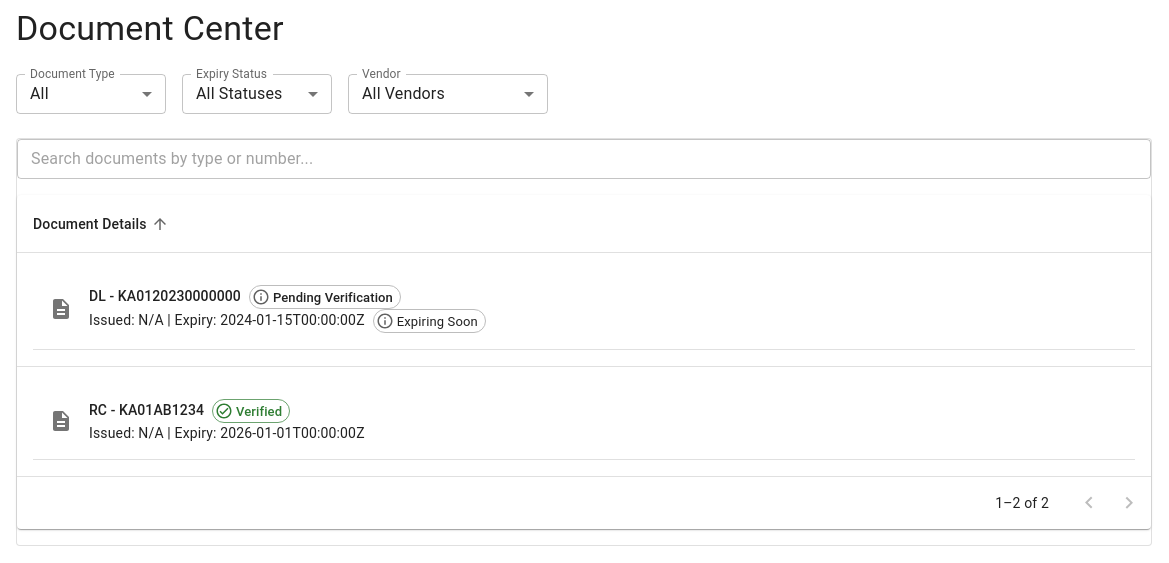
DocumentsPage › filters by "expiring" + "DL" reduces rows correctly
expect the heading "DL - KA0120230000000 Pending Verification" is shown: met, box [89, 285, 401, 309]
expect the heading "RC - KA01AB1234 Verified" is shown: met, box [89, 399, 290, 423]
Replace the text in the field named "type" with "DL" at (91,94), box [16, 74, 166, 114]
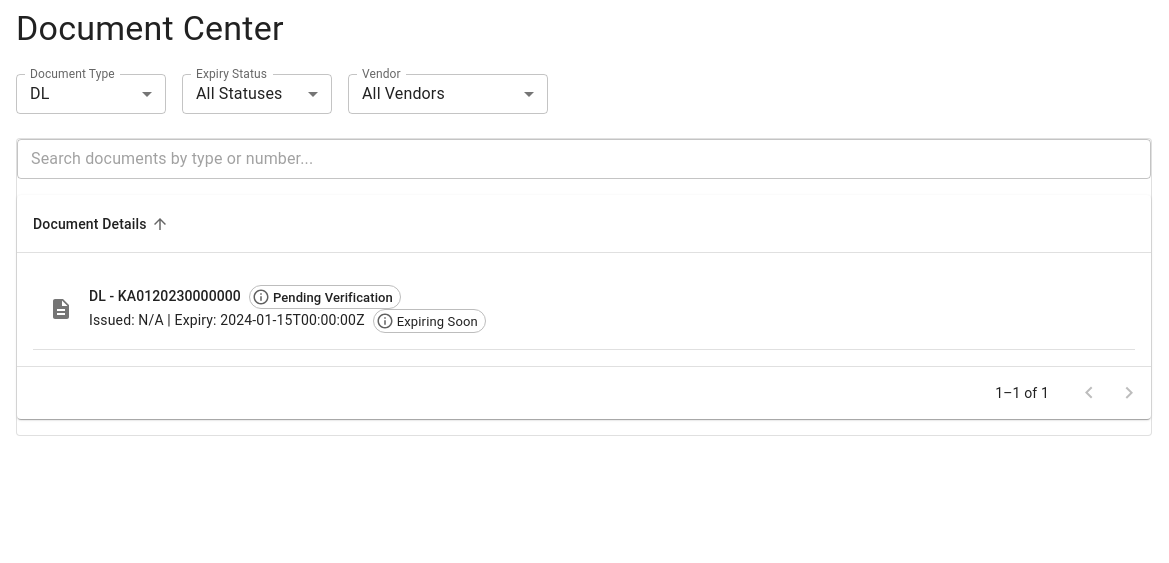
expect the heading "DL - KA0120230000000 Pending Verification" is shown: met, box [89, 285, 401, 309]
expect the heading "KA01AB1234" is gone: met
